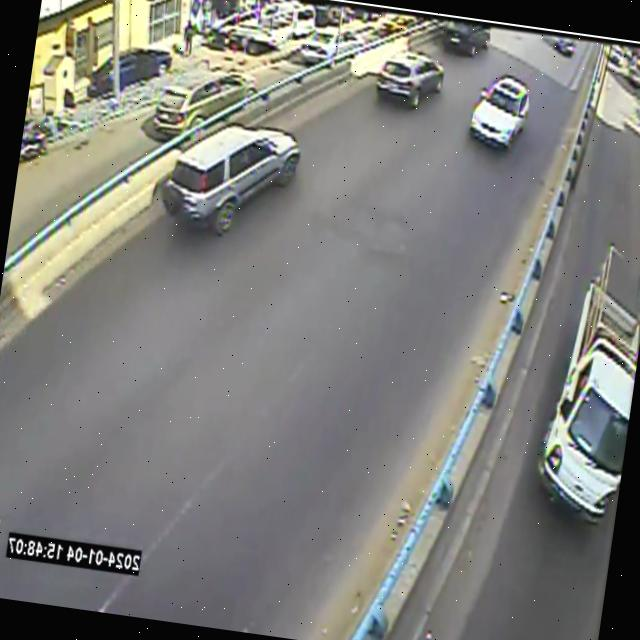car: (159, 118, 301, 236), (155, 126, 301, 235), (298, 29, 363, 66), (120, 47, 173, 90), (88, 57, 114, 98)
